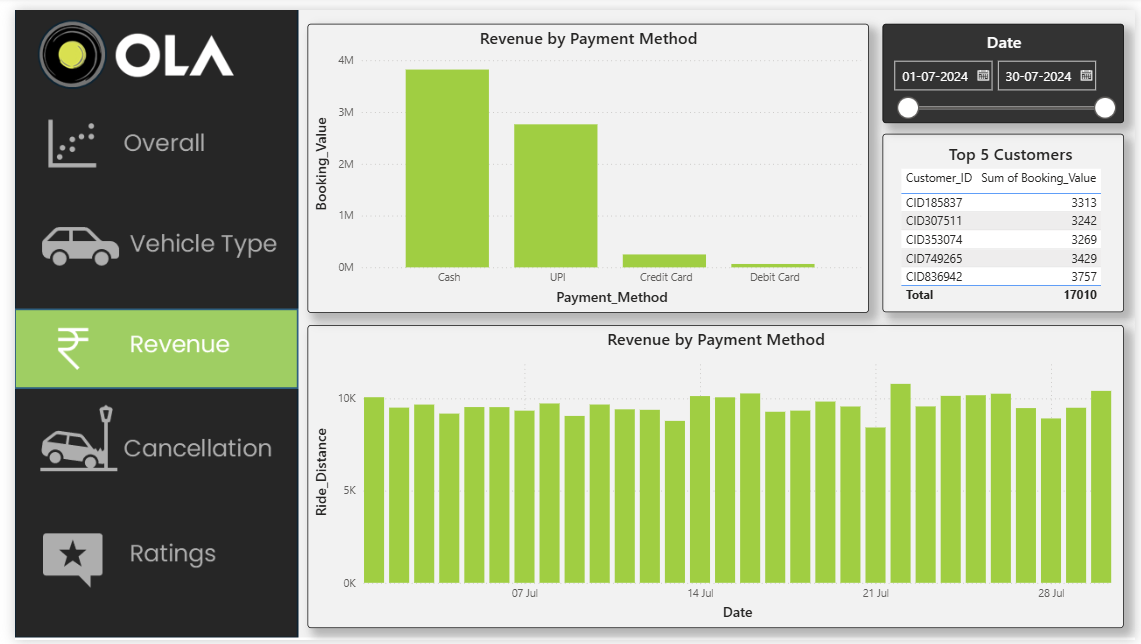

Layout of this report page (visuals, bound fields, positions):
{"tool":"powerbi","page":{"name":"Revenue","canvas":[1280,720],"ordinal":2},"visuals":[{"type":"actionButton","box":[0,220.8,324.5,96.5],"z":0},{"type":"actionButton","box":[0,445.2,324.5,96.5],"z":1000},{"type":"actionButton","box":[0,575.5,324.5,96.5],"z":2000},{"type":"actionButton","box":[0,103.8,324.5,96.5],"z":3000},{"type":"columnChart","title":"Revenue by Payment Method","fields":{"Y":["Sum(July.Booking_Value)"],"Category":["July.Payment_Method"]},"box":[335,15,641.2,330],"z":4000},{"type":"columnChart","title":"Revenue by Payment Method","fields":{"Y":["Sum(July.Ride_Distance)"],"Category":["July.Date"]},"box":[335,360,932.5,346.2],"z":5000},{"type":"slicer","title":"Date","fields":{"Values":["July.Date"]},"box":[991.2,15,276.2,113.8],"z":6000},{"type":"tableEx","title":"Top 5 Customers","fields":{"Values":["July.Customer_ID","Sum(July.Booking_Value)"]},"box":[991.2,141.2,276.2,203.8],"z":7000}]}

Visuals, with their boxes in screenshot pixels (x1, y1, x2, y2), scaled from the page's 1280x720 canvas onto the 1141x644 screenshot:
actionButton: locate(0, 197, 289, 284)
actionButton: locate(0, 398, 289, 485)
actionButton: locate(0, 515, 289, 601)
actionButton: locate(0, 93, 289, 179)
"Revenue by Payment Method" columnChart: locate(299, 13, 870, 309)
"Revenue by Payment Method" columnChart: locate(299, 322, 1130, 632)
"Date" slicer: locate(884, 13, 1130, 115)
"Top 5 Customers" tableEx: locate(884, 126, 1130, 309)
